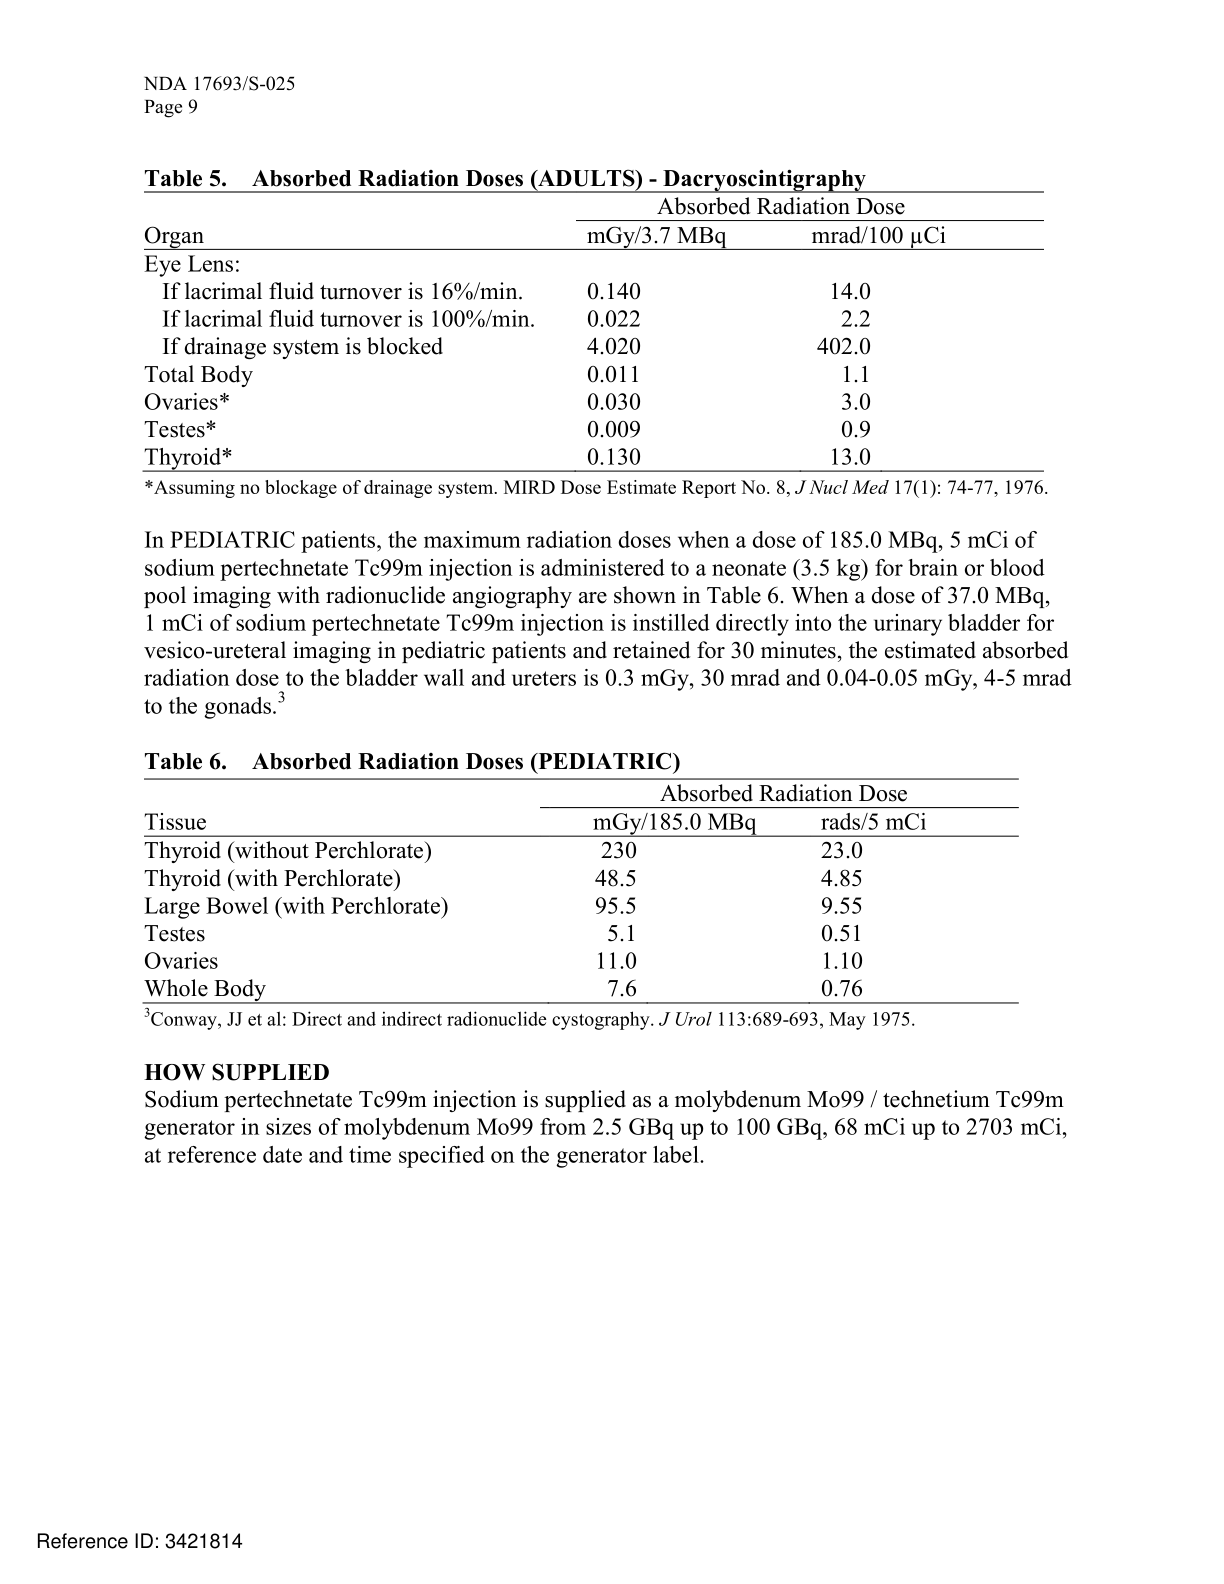partial_lined_merged_cells: (141, 189, 1045, 474), (141, 777, 1022, 1005)
